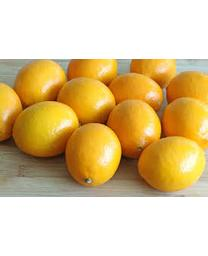lemon: (14, 99, 78, 159), (138, 135, 205, 190), (67, 124, 122, 184), (108, 98, 160, 156), (57, 77, 115, 124), (14, 60, 66, 105)
